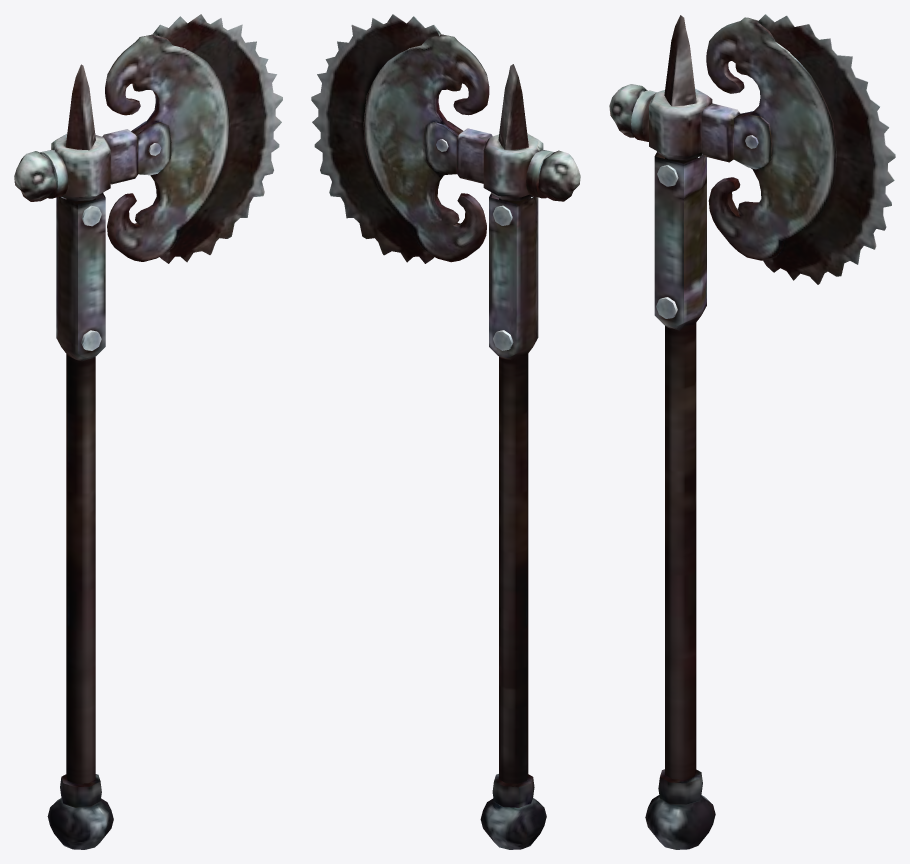
Rendered from weapon-royal-hewn-axe.glb.
The picture shows the model from 3 angles, left to right: view 1: azimuth 30°, elevation 25°; view 2: azimuth 150°, elevation 25°; view 3: azimuth 330°, elevation 25°; orthographic projection. The views are drawn at different scales.
Parts seen in each view (by area): view 1: axebB_MDL_q; view 2: axebB_MDL_q; view 3: axebB_MDL_q.
Boxes of the visible parts, box(x1,y1,x2,y2) form: axebB_MDL_q: box(14, 14, 282, 849); axebB_MDL_q: box(311, 14, 580, 849); axebB_MDL_q: box(609, 14, 895, 849).
Bounding box in the file's own units: 0.4577 × 1.32 × 0.0944.
Materials: 1 (1 with a texture image).
